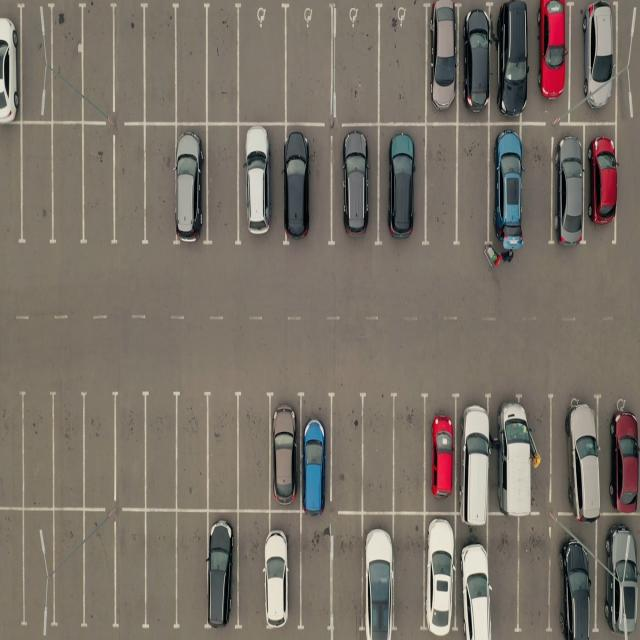space-empty: (237, 5, 288, 123), (286, 6, 337, 124), (376, 3, 425, 125), (332, 5, 379, 125), (46, 512, 87, 630), (15, 124, 53, 247), (204, 5, 242, 124), (46, 4, 84, 122), (518, 514, 556, 632), (175, 4, 212, 124), (78, 391, 116, 507), (142, 4, 179, 123), (457, 125, 493, 247), (331, 514, 367, 636), (205, 125, 242, 243), (78, 129, 115, 247), (79, 512, 116, 629), (115, 391, 152, 508), (143, 392, 180, 508), (50, 395, 87, 511), (17, 394, 54, 510), (142, 512, 178, 631), (50, 128, 86, 247), (78, 2, 114, 120), (18, 511, 54, 629), (112, 4, 148, 122), (112, 129, 148, 247), (328, 395, 365, 508), (177, 393, 213, 509), (392, 395, 428, 511), (115, 512, 150, 631), (141, 123, 176, 242), (296, 514, 331, 632), (238, 396, 273, 512), (15, 4, 50, 120), (423, 123, 457, 242), (394, 514, 427, 636), (205, 394, 240, 509), (359, 397, 394, 510), (177, 512, 210, 631), (487, 516, 519, 636), (235, 512, 267, 632), (524, 129, 554, 248), (0, 386, 24, 506), (0, 510, 24, 630), (0, 125, 23, 248)
space-occupied: (553, 394, 601, 516), (282, 128, 330, 247), (381, 122, 428, 240), (490, 395, 535, 518), (332, 129, 379, 246), (572, 2, 618, 121), (552, 518, 598, 636), (240, 124, 283, 245), (600, 400, 640, 518), (458, 393, 497, 514), (533, 0, 572, 120), (601, 518, 640, 636), (493, 2, 530, 122), (424, 5, 461, 124), (458, 518, 494, 638), (422, 393, 458, 512), (422, 515, 457, 637), (488, 126, 522, 250), (552, 126, 588, 242), (266, 511, 300, 631), (176, 128, 210, 246), (361, 514, 393, 638), (462, 5, 495, 124), (268, 394, 302, 508), (297, 396, 330, 508), (207, 512, 238, 631), (584, 126, 615, 236), (0, 5, 20, 122)
